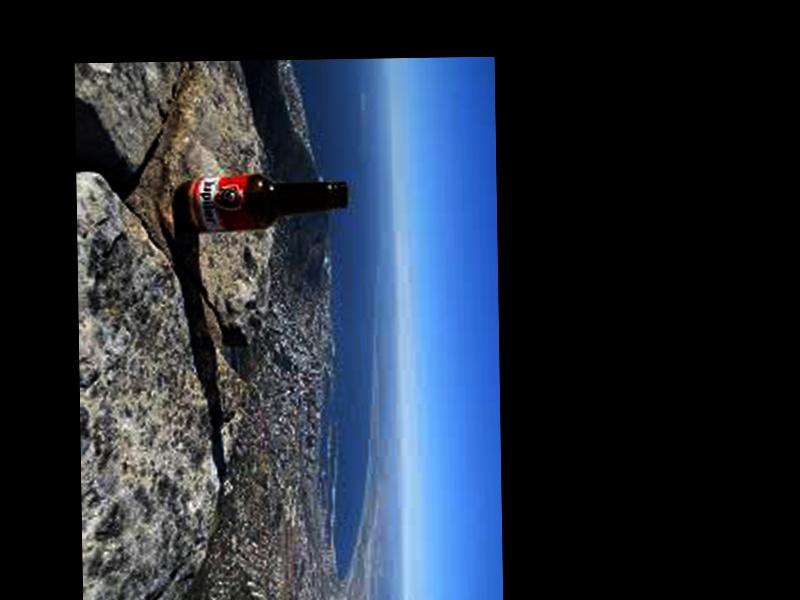Beer: (179, 171, 349, 232)
